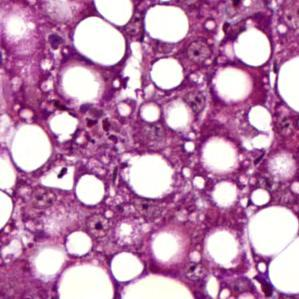steatosis: (70, 16, 126, 69), (8, 121, 56, 174), (144, 3, 191, 44), (231, 28, 272, 66), (73, 176, 107, 206), (109, 250, 142, 280)
